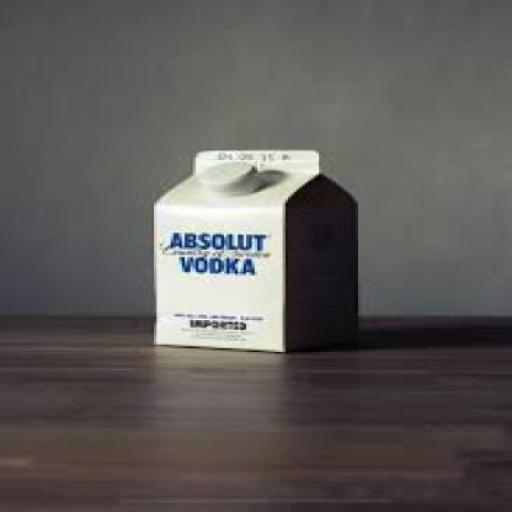drink carton: (154, 150, 359, 353)
plastic bottle cap: (198, 160, 257, 194)
